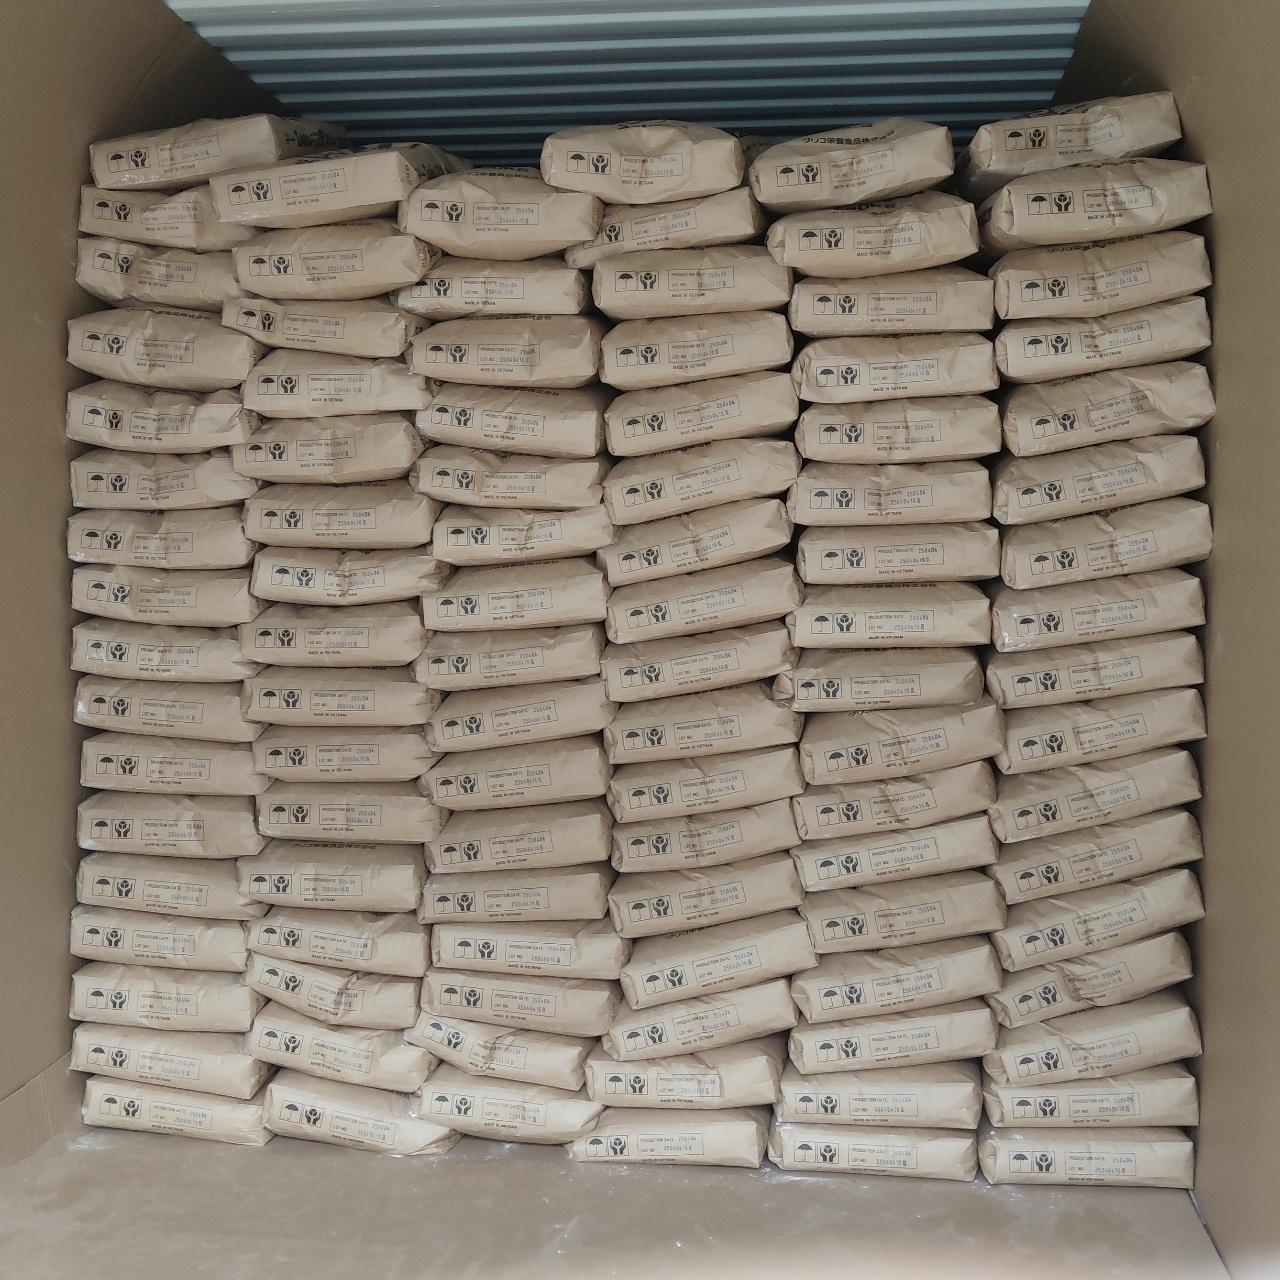sack: (956, 91, 1182, 200), (979, 157, 1210, 254), (983, 987, 1200, 1085), (990, 870, 1201, 971), (1002, 361, 1214, 457), (986, 808, 1200, 903), (985, 930, 1191, 1027), (988, 747, 1199, 842), (209, 145, 452, 227), (988, 230, 1210, 320), (748, 118, 953, 213), (620, 910, 816, 1008), (90, 114, 347, 189), (1001, 497, 1210, 588), (990, 435, 1204, 524), (397, 169, 604, 259), (996, 297, 1208, 382), (987, 568, 1203, 652), (767, 192, 978, 277), (799, 697, 1005, 784), (792, 937, 1002, 1021), (246, 1001, 440, 1092), (995, 689, 1201, 774), (608, 553, 801, 644), (540, 121, 749, 203), (265, 1069, 461, 1156), (598, 499, 794, 586), (799, 870, 1006, 952), (986, 631, 1201, 708), (232, 219, 441, 299), (604, 440, 799, 524), (566, 186, 767, 268), (605, 372, 798, 456), (605, 682, 804, 763), (610, 853, 802, 937), (70, 309, 264, 392), (601, 621, 797, 702), (794, 762, 995, 839), (602, 979, 797, 1058), (791, 816, 998, 891), (790, 1000, 996, 1074), (406, 1009, 595, 1089), (72, 1023, 270, 1099), (593, 245, 794, 320), (788, 265, 994, 338), (602, 311, 792, 389), (400, 315, 605, 388), (414, 383, 614, 457), (608, 745, 805, 821), (417, 1063, 602, 1142), (791, 333, 998, 403), (425, 678, 619, 751), (586, 1035, 781, 1108), (422, 556, 610, 631), (67, 380, 259, 452), (420, 736, 611, 809), (425, 798, 611, 872), (243, 349, 440, 418), (978, 1124, 1192, 1187), (776, 1061, 979, 1128), (795, 396, 1001, 462), (611, 801, 799, 872), (422, 967, 620, 1035), (985, 1063, 1197, 1126), (787, 459, 990, 525), (244, 481, 440, 549), (69, 964, 263, 1032), (232, 413, 422, 482), (238, 840, 424, 911), (772, 649, 983, 712), (244, 953, 418, 1028), (247, 906, 429, 978), (77, 852, 268, 920), (411, 624, 601, 692), (769, 1118, 978, 1179), (239, 600, 433, 666), (82, 1076, 268, 1144), (72, 565, 274, 627), (787, 585, 989, 647), (392, 257, 588, 320), (223, 295, 427, 356), (76, 237, 244, 311), (411, 445, 608, 508), (73, 678, 261, 742), (431, 918, 631, 979), (795, 523, 998, 583), (77, 791, 261, 857), (418, 862, 615, 922), (79, 185, 258, 252), (81, 731, 270, 795), (565, 1109, 765, 1167), (241, 667, 440, 726), (67, 508, 257, 568), (72, 619, 260, 680), (251, 546, 450, 604), (72, 905, 245, 971), (72, 448, 260, 508), (257, 781, 445, 840), (433, 505, 617, 565), (253, 726, 438, 779)
